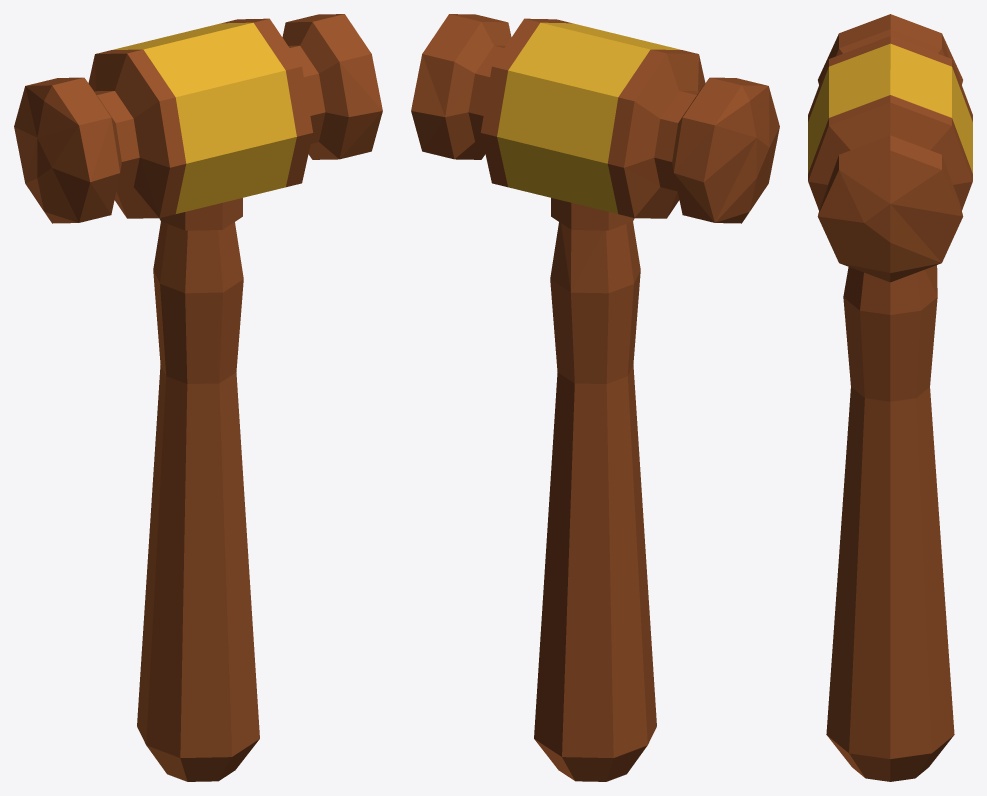
The model's file is hammer_5.FBX.
3 renders of one model, left to right at view 1: azimuth 30°, elevation 25°; view 2: azimuth 150°, elevation 25°; view 3: azimuth 270°, elevation 25°, orthographic. The views are drawn at different scales.
Parts seen in each view (by area): view 1: hamer_court_low_poly; view 2: hamer_court_low_poly; view 3: hamer_court_low_poly.
Boxes of the visible parts, bbox=[...] form: hamer_court_low_poly: bbox=[14, 14, 382, 781]; hamer_court_low_poly: bbox=[411, 14, 779, 781]; hamer_court_low_poly: bbox=[808, 14, 972, 781].
Size of the model in its own units: 54.57 by 118 by 25.28.
Materials: 1 (1 with a texture image).
